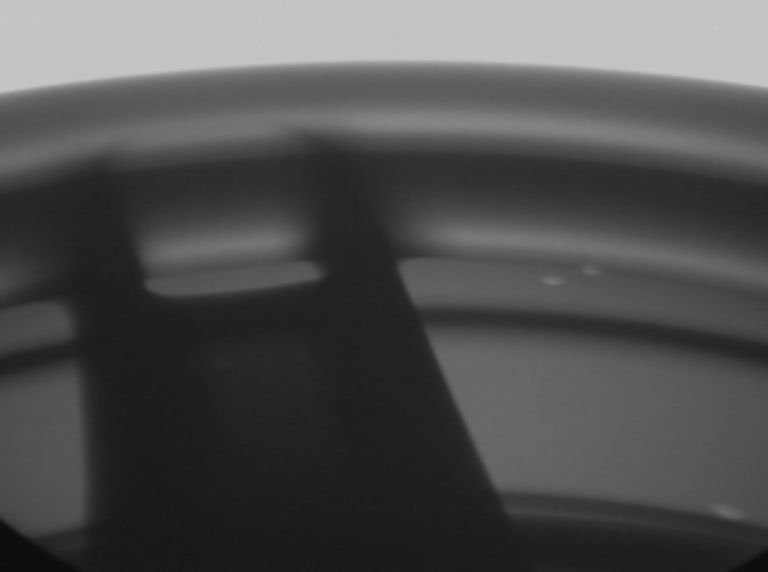defect: (702, 496, 747, 532)
